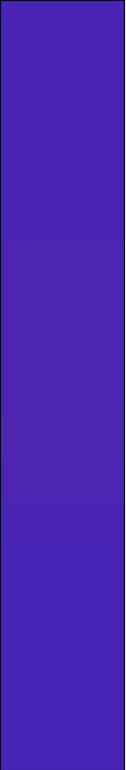safe: (7, 14, 112, 766)
